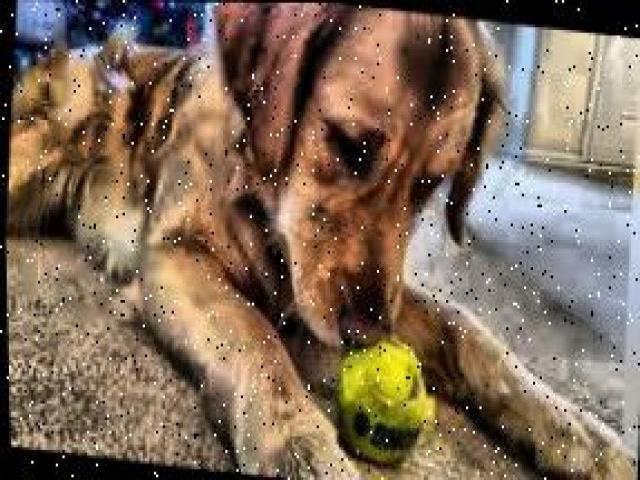tennis-ball: (339, 340, 424, 466)
